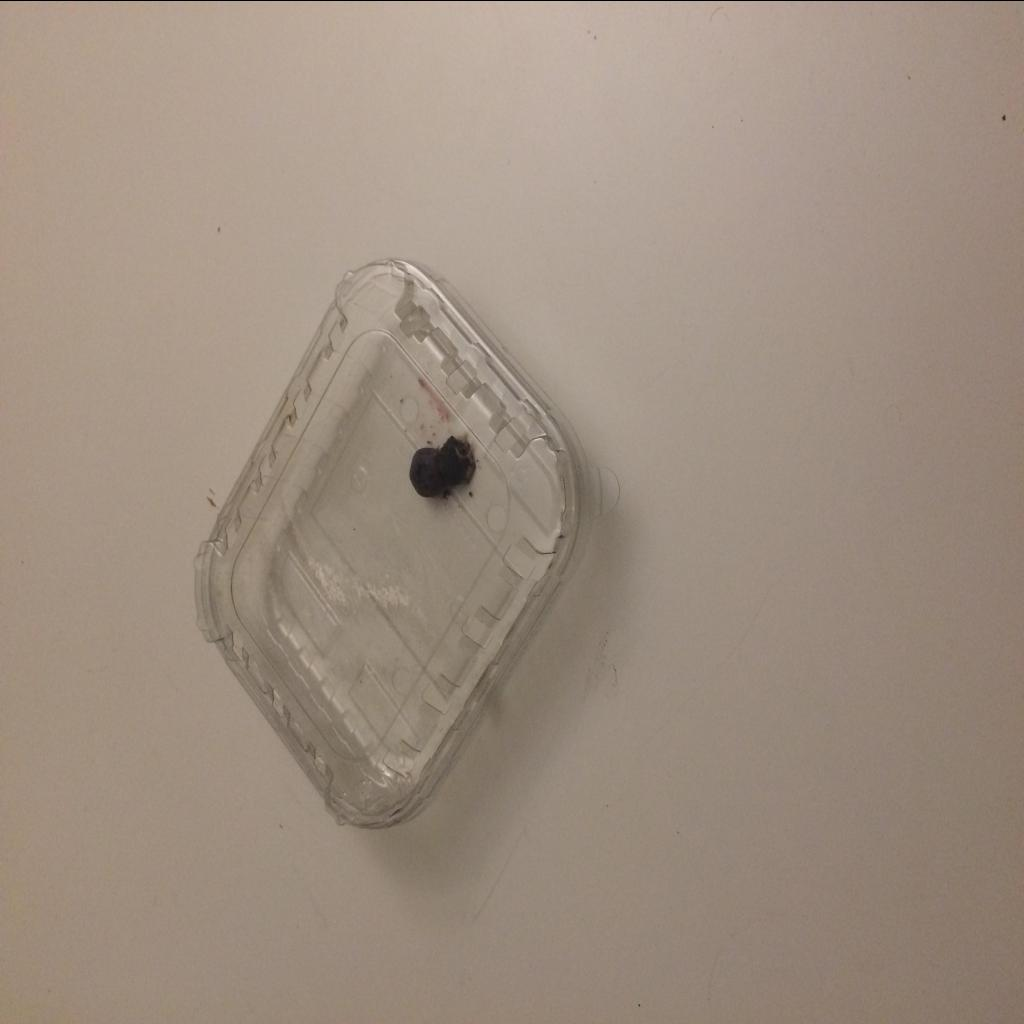Disposable food container: (194, 256, 620, 828)
Food waste: (410, 436, 476, 496)
